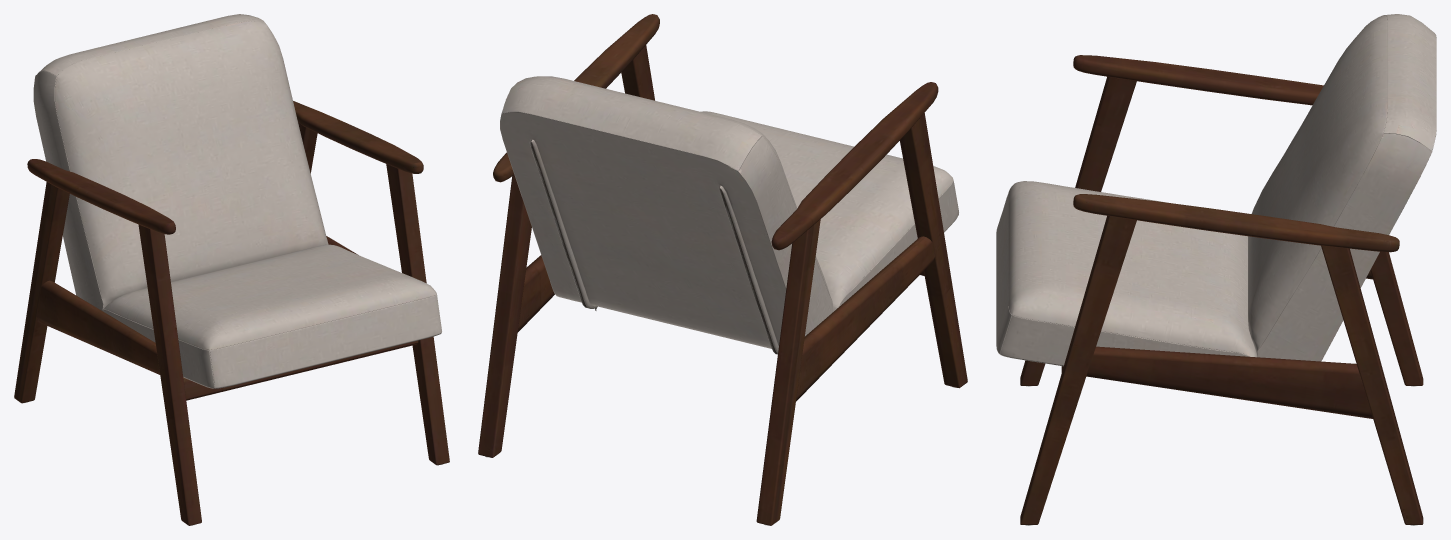
3 renders of one model, left to right at view 1: azimuth 30°, elevation 25°; view 2: azimuth 150°, elevation 25°; view 3: azimuth 270°, elevation 25°, orthographic. The views are drawn at different scales.
Visible parts, largest first — view 1: Mesh_0; view 2: Mesh_0; view 3: Mesh_0.
Part boxes in pixels (box(x1,y1,x2,y2)): Mesh_0: box(14, 14, 449, 525); Mesh_0: box(478, 14, 967, 525); Mesh_0: box(996, 14, 1436, 525).
Size of the model in its own units: 0.6402 by 0.7602 by 0.78.
1 material, 1 textured.
